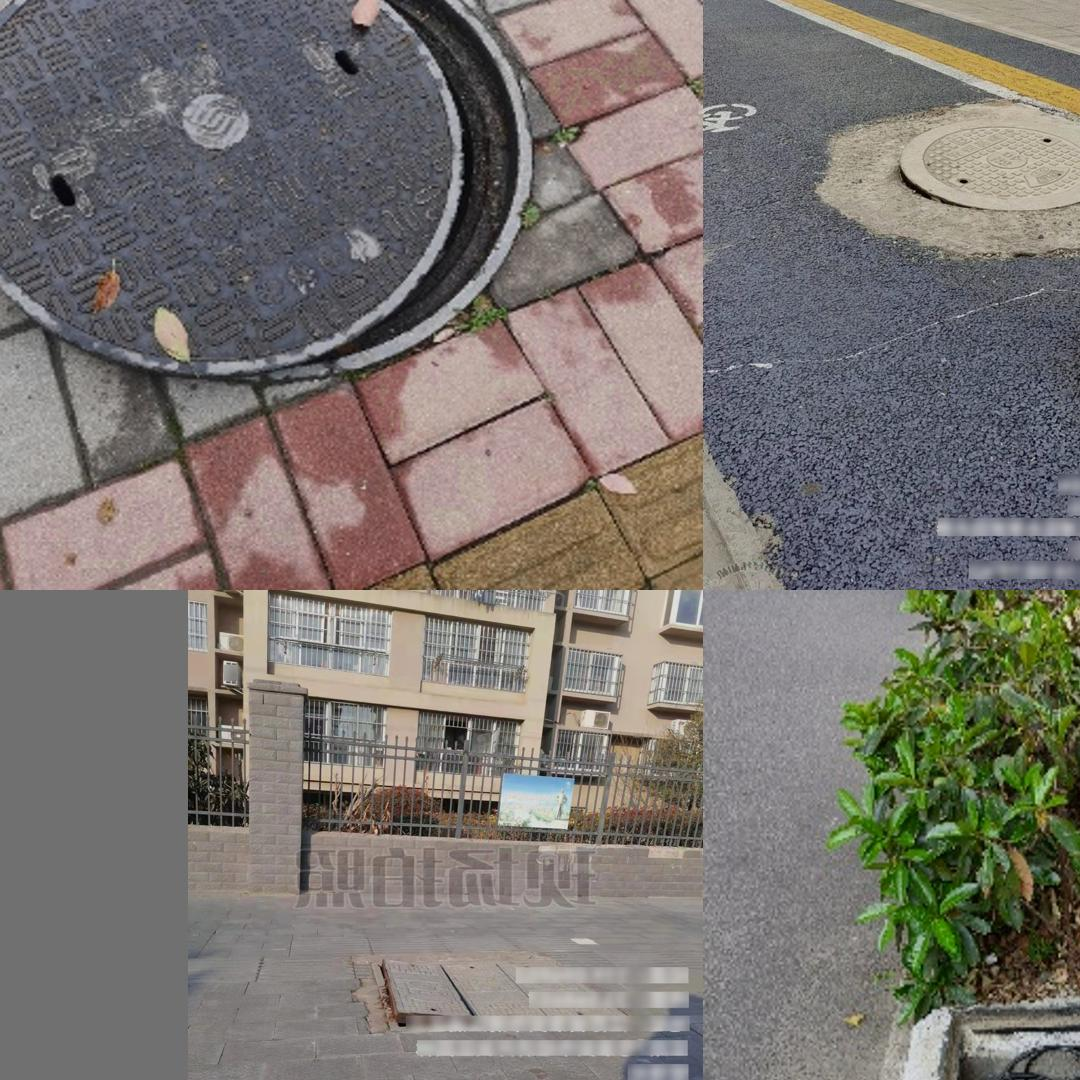uncovered: (0, 0, 555, 381), (876, 78, 1080, 233), (371, 955, 633, 1032), (840, 1000, 1080, 1080)
